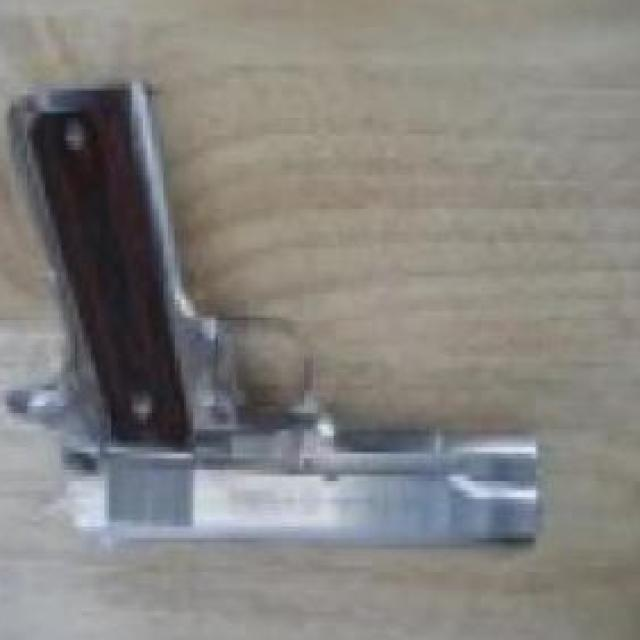pistol: (0, 89, 547, 554)
